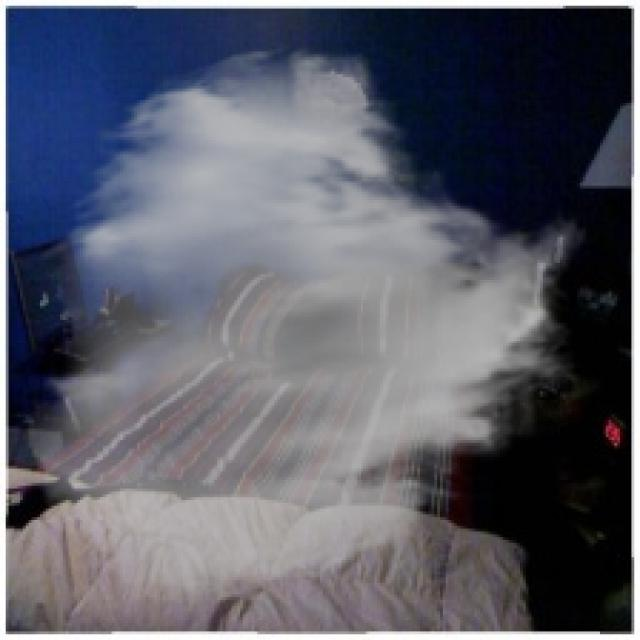smoke: (23, 43, 588, 608)
